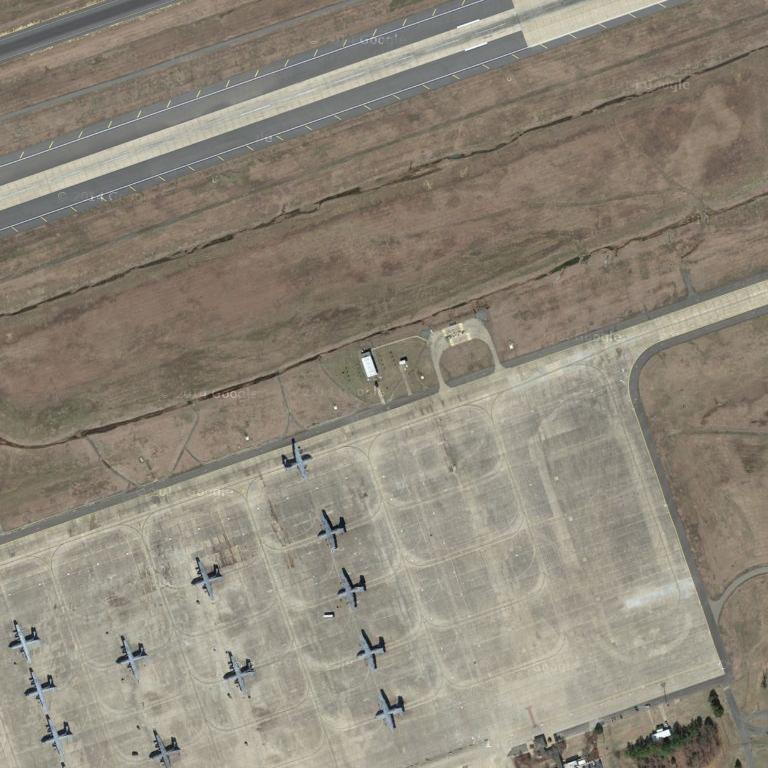C-130: (22, 663, 57, 712), (370, 687, 408, 731), (353, 626, 387, 674), (7, 619, 41, 665), (35, 716, 71, 759), (334, 566, 369, 610), (280, 436, 314, 481), (190, 556, 225, 599), (116, 633, 148, 680), (316, 509, 350, 552), (221, 651, 253, 696), (148, 731, 185, 768)
